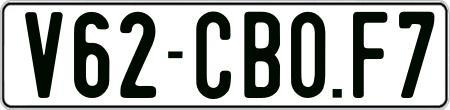0: (289, 9, 324, 96)
2: (120, 10, 159, 98)
6: (73, 10, 109, 97)
7: (396, 12, 434, 100)
B: (244, 11, 281, 101)
C: (194, 10, 233, 101)
F: (352, 9, 392, 100)
V: (22, 9, 63, 98)
